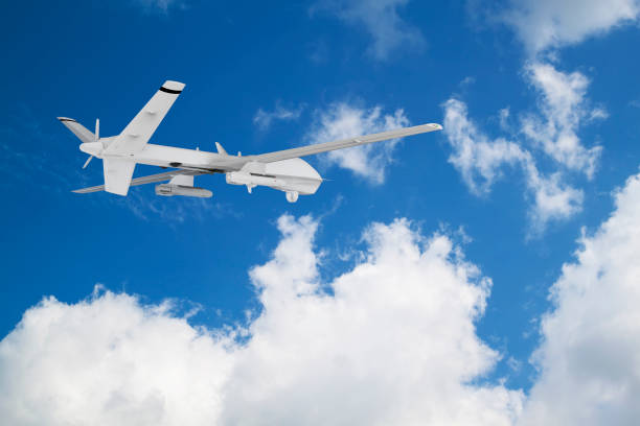military drone: (55, 79, 443, 202)
